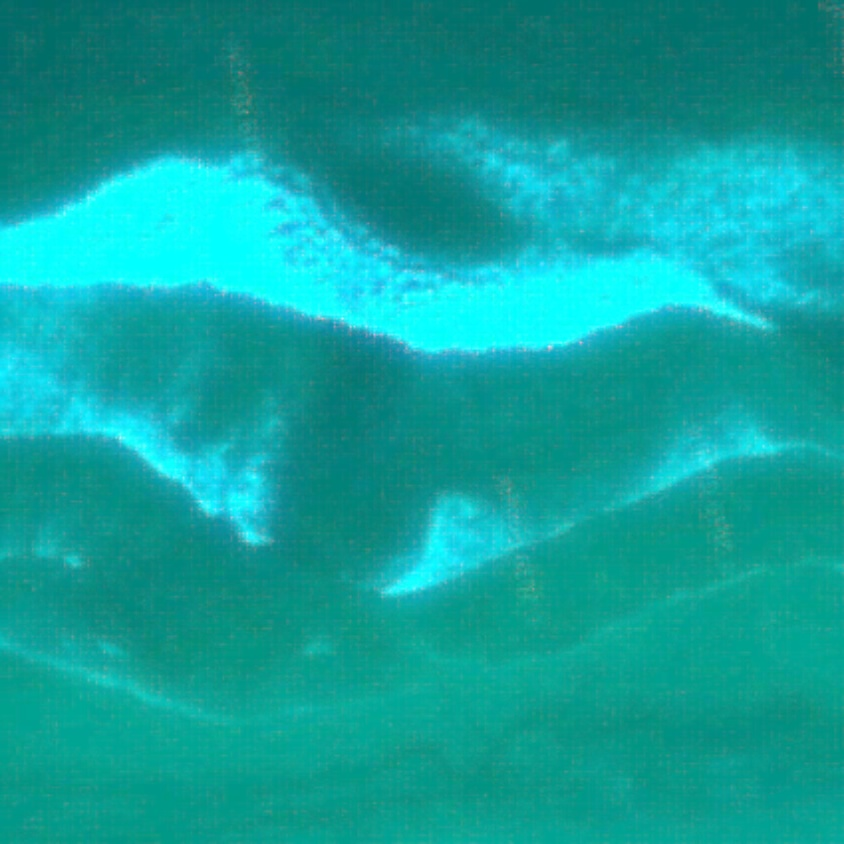rip_current: (207, 174, 503, 586)
